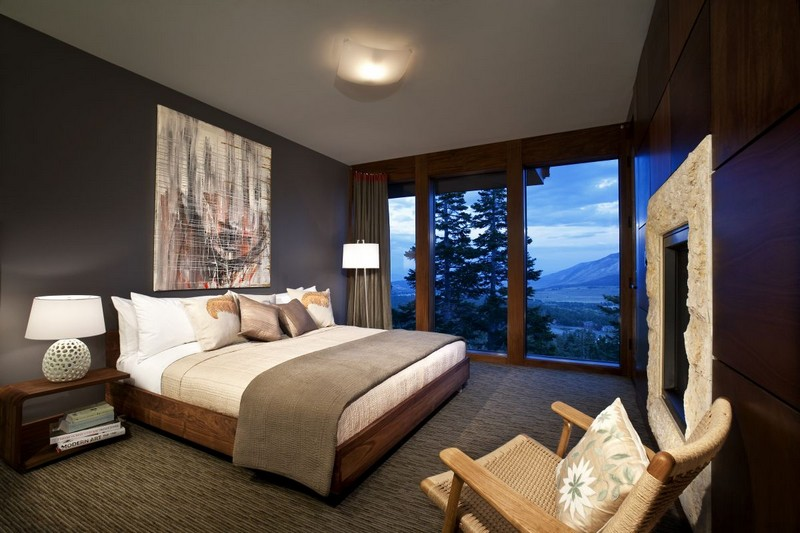bed: (109, 284, 471, 490)
chair: (426, 392, 735, 531)
lamp: (24, 291, 106, 384), (340, 234, 384, 329)
